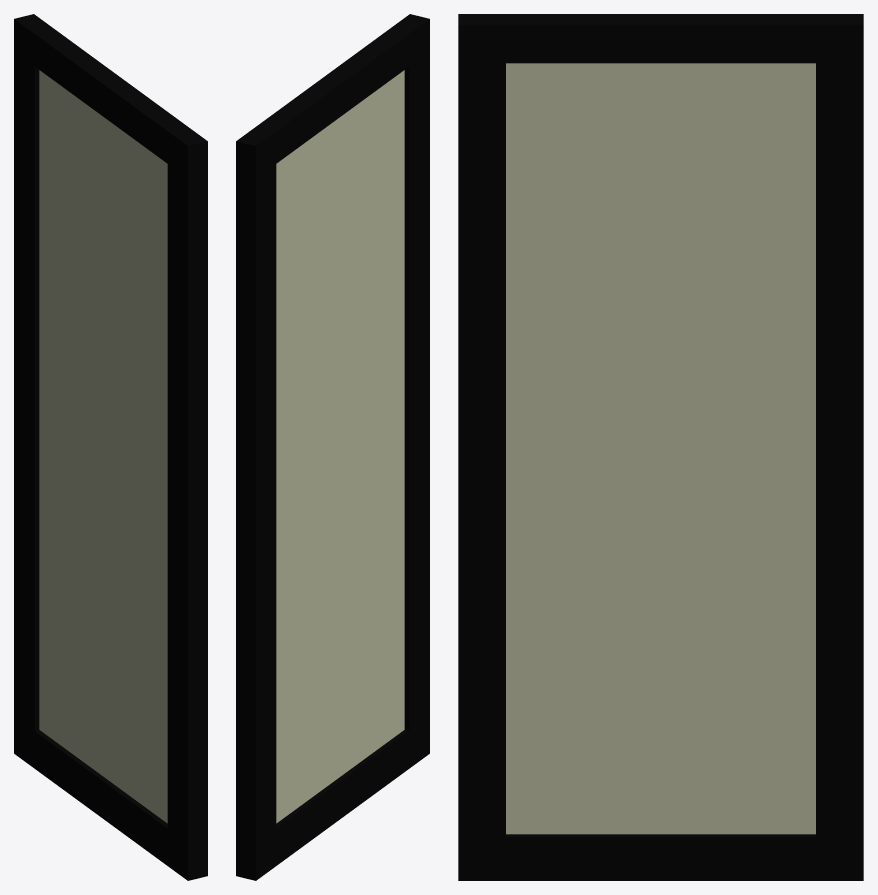
The model's file is door2.fbx.
3 renders of one model, left to right at view 1: azimuth 30°, elevation 25°; view 2: azimuth 150°, elevation 25°; view 3: azimuth 270°, elevation 25°, orthographic. The views are drawn at different scales.
Parts seen in each view (by area): view 1: Cube; view 2: Cube; view 3: Cube.
Boxes of the visible parts, left/top/right/bottom form: Cube: left=14, top=14, right=207, bottom=880; Cube: left=236, top=14, right=429, bottom=880; Cube: left=458, top=14, right=863, bottom=880.
Size of the model in its own units: 37.42 by 1320 by 566.
